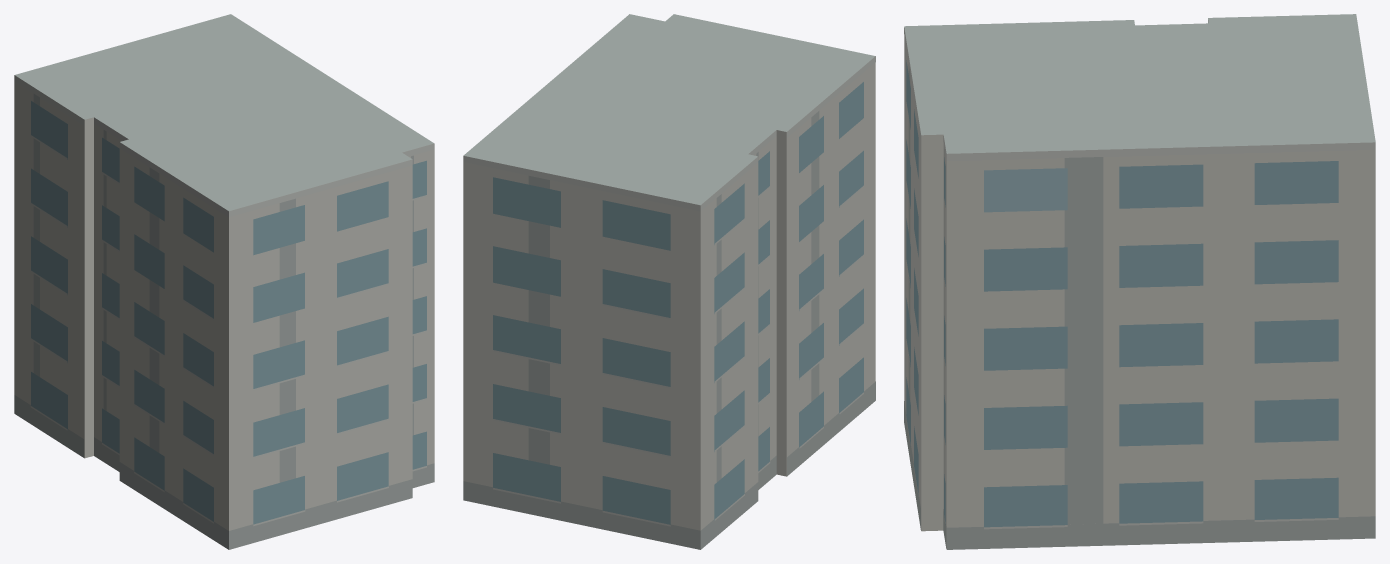
File: survey-upis-32701295.glb
The picture shows the model from 3 angles, left to right: view 1: azimuth 30°, elevation 25°; view 2: azimuth 150°, elevation 25°; view 3: azimuth 270°, elevation 25°; orthographic projection. The views are drawn at different scales.
Parts seen in each view (by area): view 1: survey-upis-32701295.tmp; view 2: survey-upis-32701295.tmp; view 3: survey-upis-32701295.tmp.
Part boxes in pixels (<box>): survey-upis-32701295.tmp: <box>14,14,434,549</box>; survey-upis-32701295.tmp: <box>463,14,875,549</box>; survey-upis-32701295.tmp: <box>904,14,1375,549</box>.
Size of the model in its own units: 10.08 by 13.3 by 14.37.
